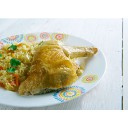briyani: (1, 44, 89, 93)
